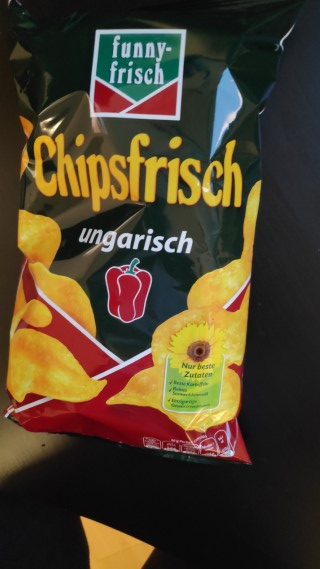chipsfrisch: (1, 1, 304, 471)
